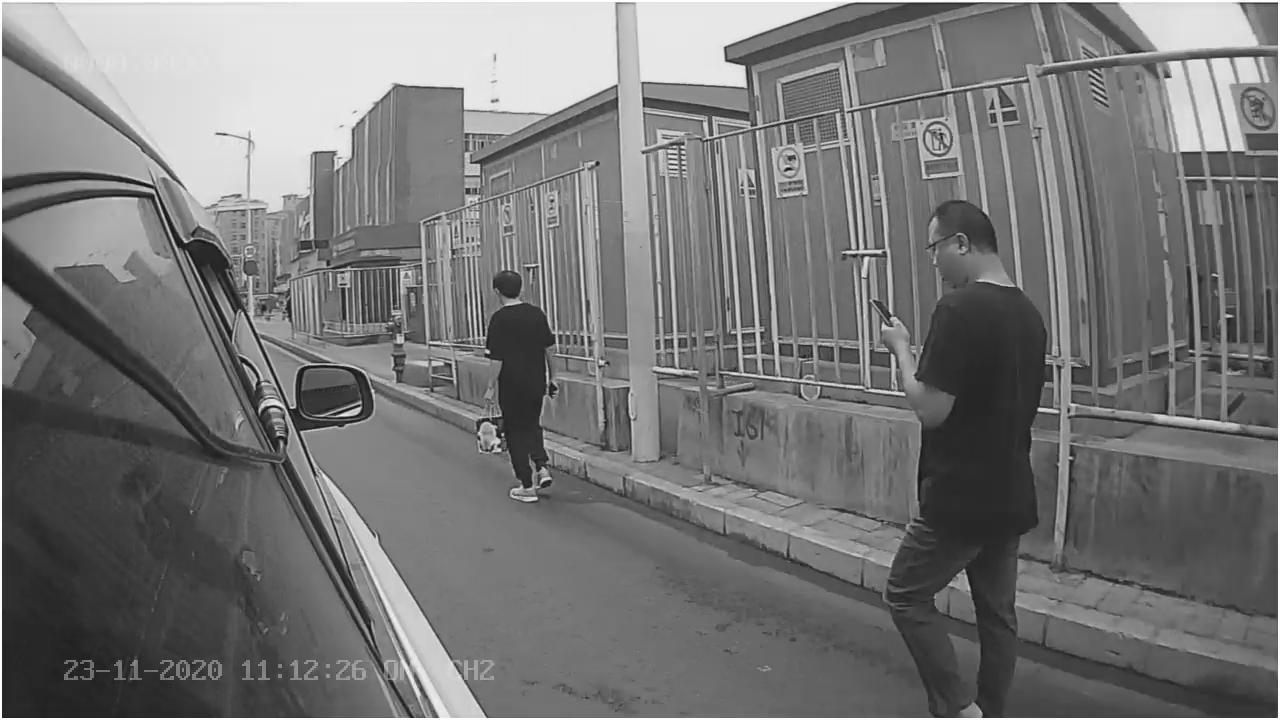person: (864, 202, 1054, 670), (468, 266, 568, 510)
